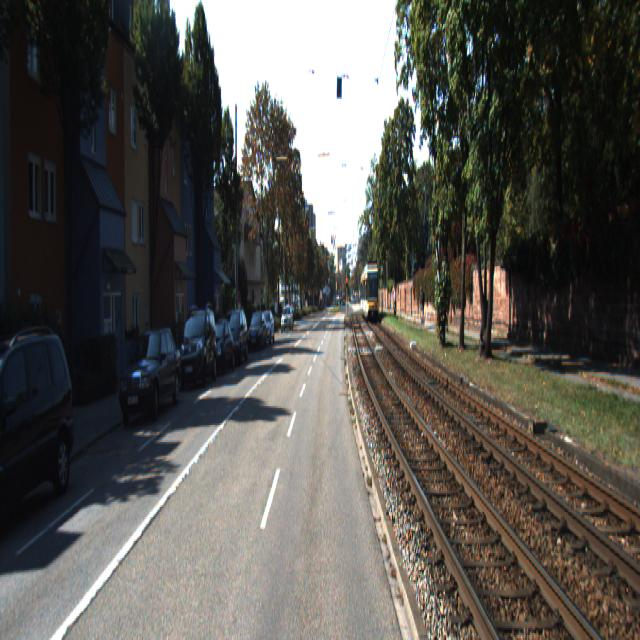Car: (0, 323, 81, 549), (118, 322, 184, 426), (178, 302, 218, 391), (220, 306, 249, 368), (205, 317, 233, 377), (248, 310, 268, 352)
DontCare: (389, 274, 429, 336), (268, 295, 294, 342), (329, 288, 349, 308)
Tram: (360, 262, 380, 322)
